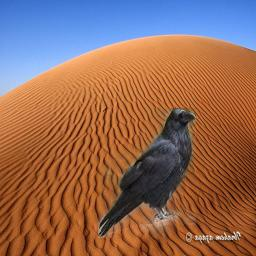Crow: (98, 108, 196, 238)
